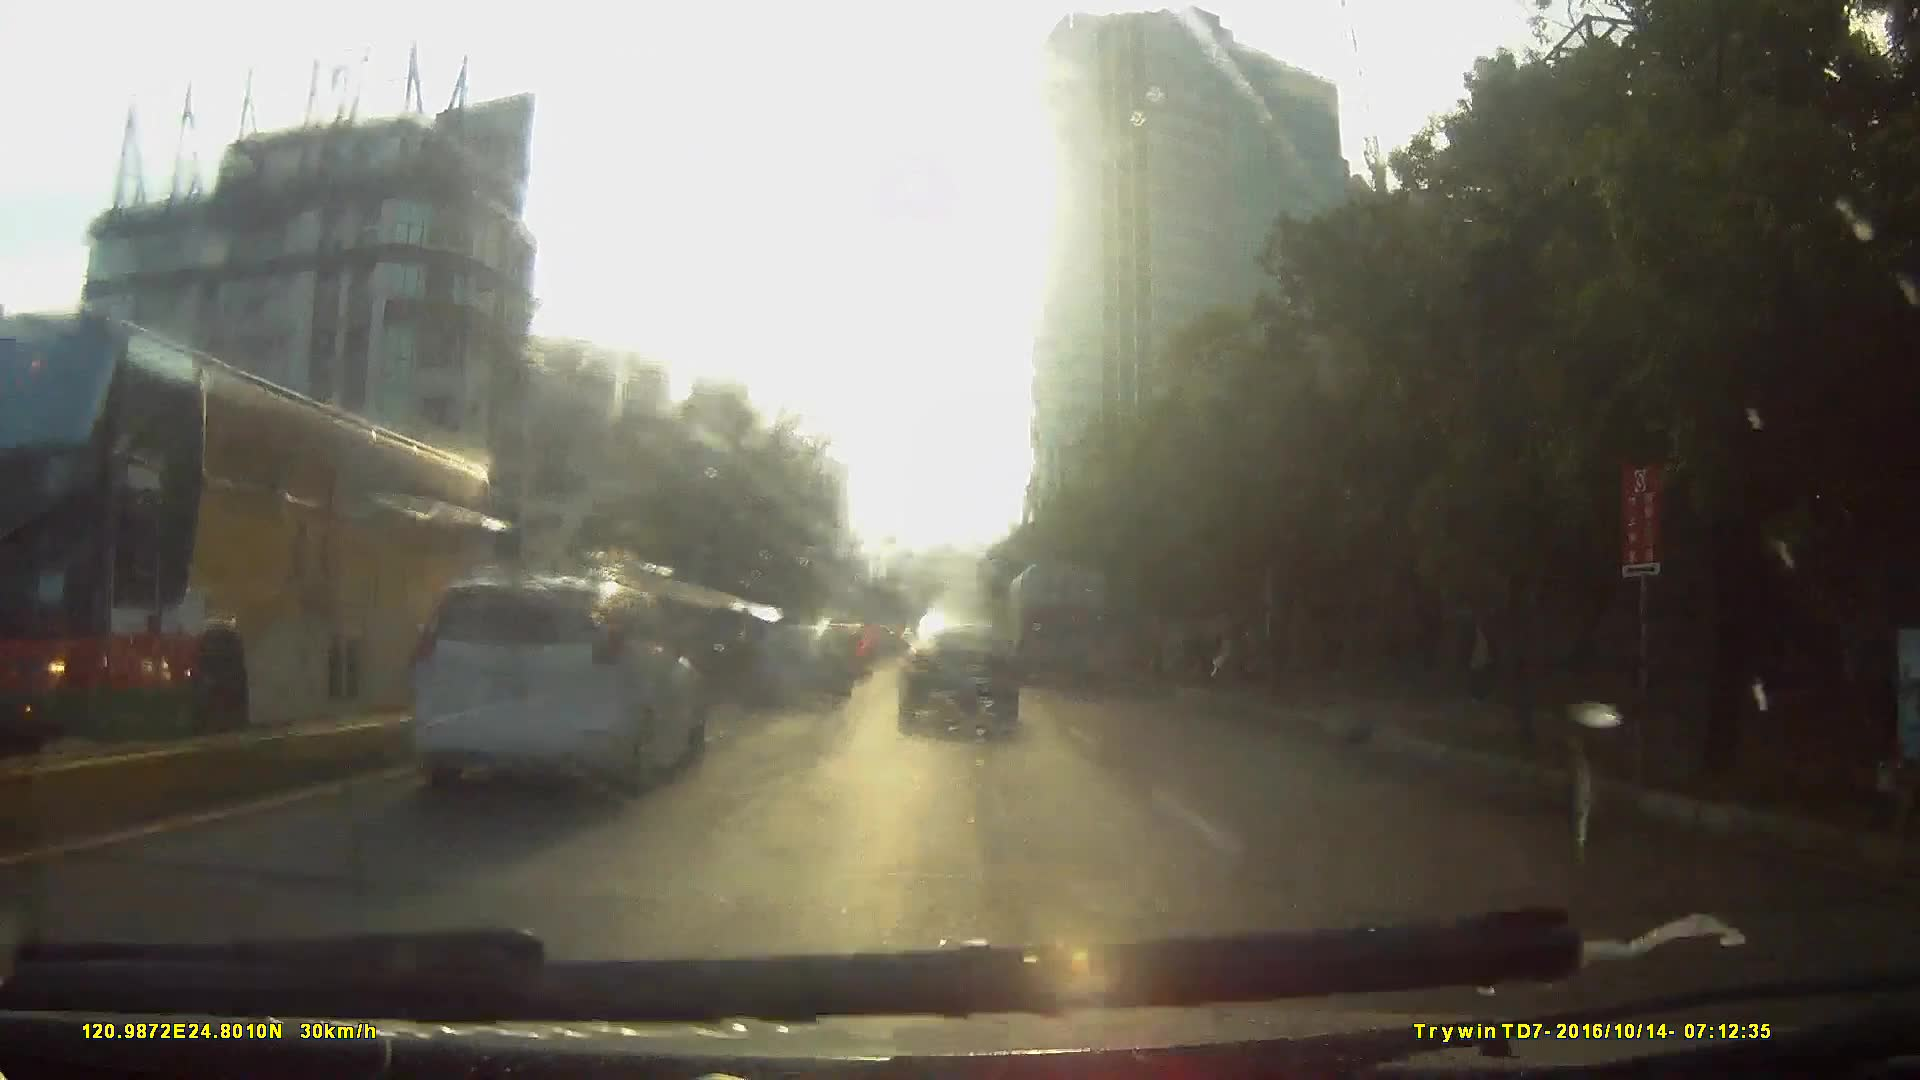vehicle: (1, 295, 508, 750), (251, 556, 684, 868), (404, 568, 702, 804), (893, 618, 1017, 731), (1007, 564, 1112, 690), (744, 622, 852, 707), (866, 638, 915, 687)
